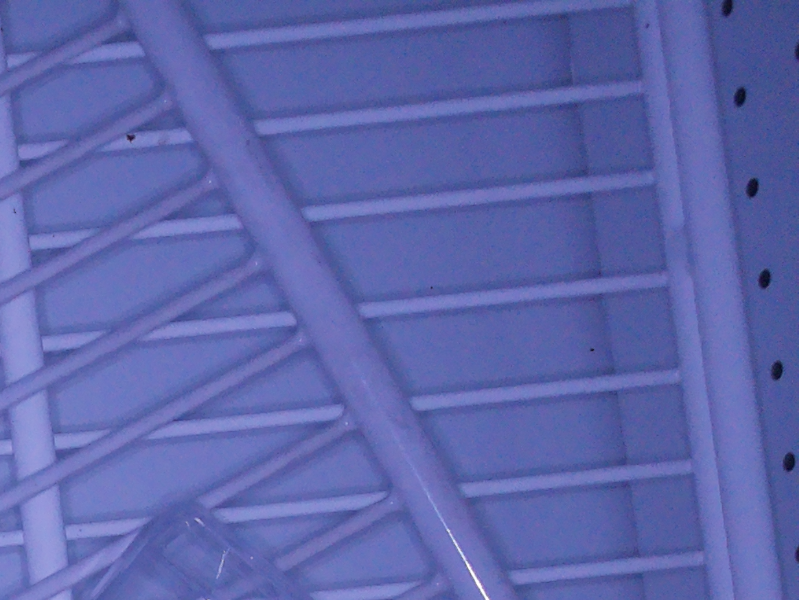plate: (97, 498, 318, 600)
